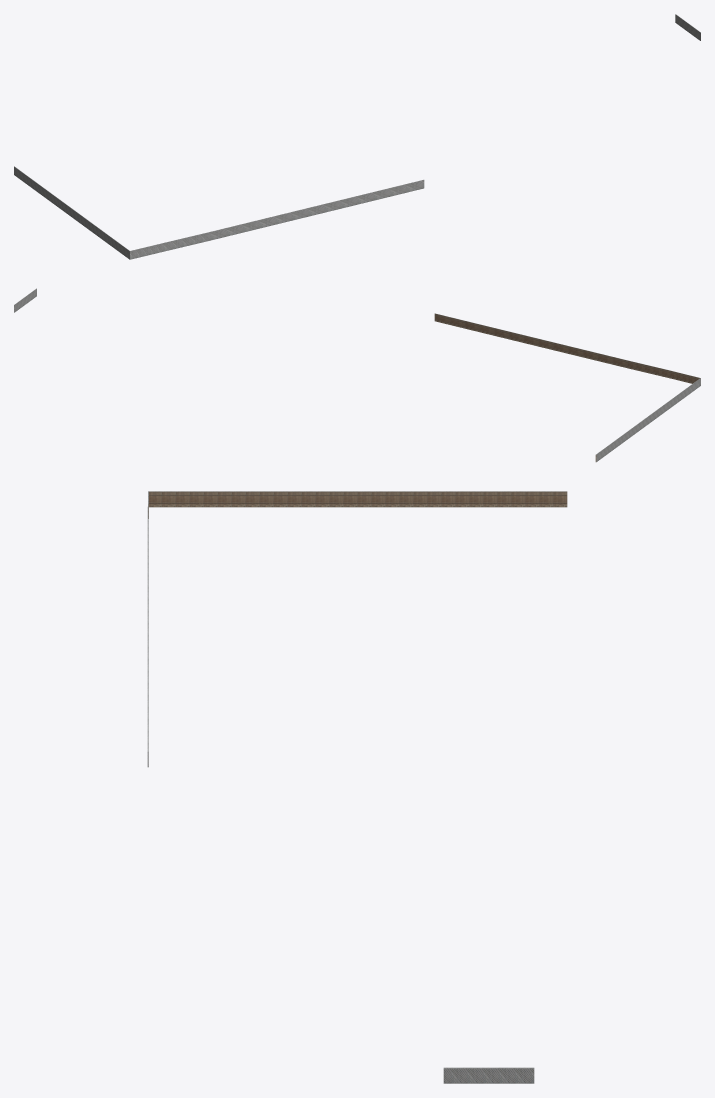
The model's file is vgsecnstrct05.obj.
The picture shows the model from 3 angles, top to bottom: view 1: azimuth 30°, elevation 25°; view 2: azimuth 150°, elevation 25°; view 3: azimuth 270°, elevation 25°; orthographic projection. The views are drawn at different scales.
Parts seen in each view (by area): view 1: vgsEcnstrct05; view 2: vgsEcnstrct05; view 3: vgsEcnstrct05.
Boxes of the visible parts, x1,y1,x2,y2 form: vgsEcnstrct05: (14,14,700,259); vgsEcnstrct05: (14,288,700,462); vgsEcnstrct05: (147,491,567,1083).
Size of the model in its own units: 160 by 2.07 by 49.19.
2 materials, 2 textured.
